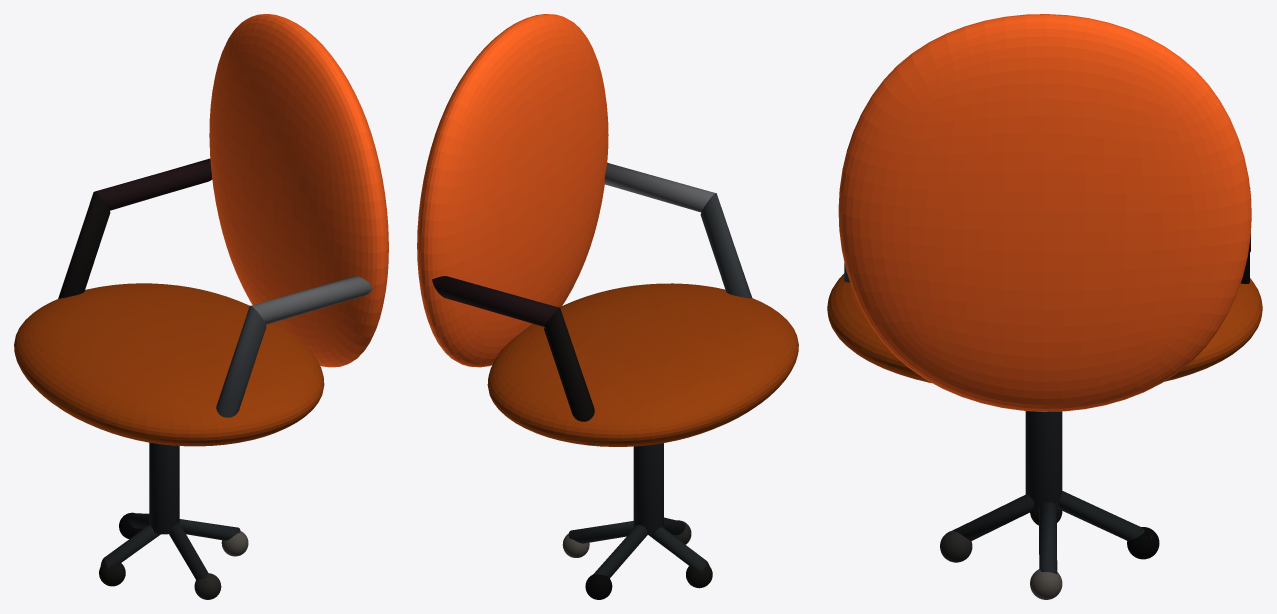
File: styl1.glb
3 views of the same model, side by side, from view 1: azimuth 30°, elevation 25°; view 2: azimuth 150°, elevation 25°; view 3: azimuth 270°, elevation 25° (orthographic). The views are drawn at different scales.
Parts seen in each view (by area): view 1: Куб.001, Куб, Цилиндр.001, Цилиндр.005, Цилиндр.007, Цилиндр.006, Цилиндр.004, Цилиндр.010, Цилиндр.008, Цилиндр.011, Сфера.001, Сфера; view 2: Куб.001, Куб, Цилиндр.005, Цилиндр.001, Цилиндр.004, Цилиндр.007, Цилиндр.006, Цилиндр.009, Цилиндр.011, Цилиндр.008, Сфера.003; view 3: Куб.001, Куб, Цилиндр.001, Цилиндр.009, Цилиндр.010, Цилиндр.011, Сфера.001, Сфера.002, Сфера.003.
Part boxes in pixels (x1=…): Куб.001: x1=209, y1=14, x2=388, y2=367; Куб: x1=14, y1=283, x2=324, y2=446; Цилиндр.001: x1=149, y1=442, x2=179, y2=534; Цилиндр.005: x1=95, y1=158, x2=212, y2=210; Цилиндр.007: x1=251, y1=276, x2=372, y2=324; Цилиндр.006: x1=216, y1=306, x2=266, y2=417; Цилиндр.004: x1=58, y1=191, x2=110, y2=298; Цилиндр.010: x1=169, y1=522, x2=208, y2=579; Цилиндр.008: x1=100, y1=524, x2=160, y2=569; Цилиндр.011: x1=179, y1=519, x2=240, y2=540; Сфера.001: x1=194, y1=573, x2=221, y2=599; Сфера: x1=99, y1=563, x2=125, y2=586; Куб.001: x1=417, y1=14, x2=608, y2=367; Куб: x1=487, y1=283, x2=798, y2=446; Цилиндр.005: x1=432, y1=276, x2=558, y2=326; Цилиндр.001: x1=633, y1=443, x2=663, y2=534; Цилиндр.004: x1=544, y1=307, x2=594, y2=444; Цилиндр.007: x1=604, y1=163, x2=715, y2=212; Цилиндр.006: x1=700, y1=193, x2=752, y2=298; Цилиндр.009: x1=588, y1=525, x2=647, y2=579; Цилиндр.011: x1=568, y1=521, x2=633, y2=543; Цилиндр.008: x1=648, y1=527, x2=709, y2=574; Сфера.003: x1=585, y1=574, x2=612, y2=599; Куб.001: x1=838, y1=14, x2=1251, y2=411; Куб: x1=827, y1=273, x2=1262, y2=383; Цилиндр.001: x1=1025, y1=411, x2=1062, y2=508; Цилиндр.009: x1=1056, y1=491, x2=1152, y2=541; Цилиндр.010: x1=952, y1=494, x2=1037, y2=541; Цилиндр.011: x1=1039, y1=502, x2=1057, y2=573; Сфера.001: x1=940, y1=530, x2=972, y2=562; Сфера.002: x1=1030, y1=569, x2=1062, y2=599; Сфера.003: x1=1127, y1=527, x2=1159, y2=559.
Bounding box in the file's own units: 3.34 × 5.73 × 3.64.
